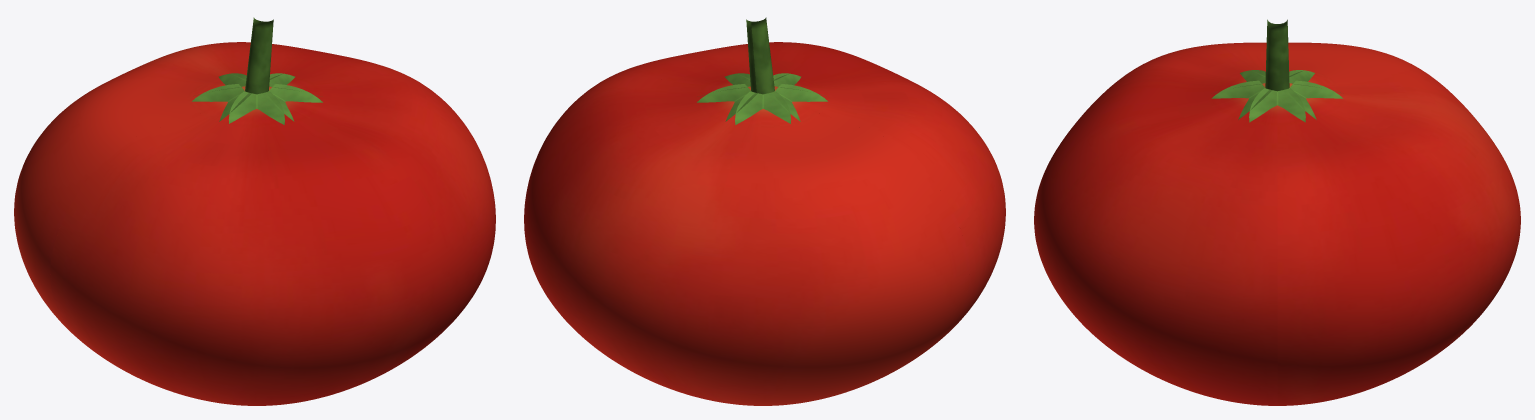
The model's file is tomate.glb.
The picture shows the model from 3 angles, left to right: view 1: azimuth 30°, elevation 25°; view 2: azimuth 150°, elevation 25°; view 3: azimuth 270°, elevation 25°; orthographic projection.
Visible parts, largest first — view 1: entier_peau, moitie_A_peau, moitie_B_peau, entier_extra6, entier_extra2, entier_extra1, entier_extra3; view 2: entier_peau, moitie_B_peau, moitie_A_peau, entier_extra6, entier_extra4, entier_extra5, entier_extra3; view 3: entier_peau, moitie_A_peau, moitie_B_peau, entier_extra6, entier_extra0, entier_extra1, entier_extra5.
Boxes of the visible parts, x1,y1,x2,y2 form: entier_peau: [14, 42, 495, 405]; moitie_A_peau: [50, 76, 495, 405]; moitie_B_peau: [14, 42, 422, 341]; entier_extra6: [245, 17, 273, 94]; entier_extra2: [228, 91, 284, 124]; entier_extra1: [262, 84, 322, 121]; entier_extra3: [192, 84, 251, 121]; entier_peau: [524, 42, 1005, 405]; moitie_B_peau: [524, 76, 969, 405]; moitie_A_peau: [597, 42, 1005, 341]; entier_extra6: [746, 17, 774, 94]; entier_extra4: [735, 91, 791, 124]; entier_extra5: [697, 84, 757, 121]; entier_extra3: [768, 84, 827, 121]; entier_peau: [1034, 42, 1520, 405]; moitie_A_peau: [1034, 43, 1277, 405]; moitie_B_peau: [1277, 43, 1520, 405]; entier_extra6: [1265, 19, 1289, 91]; entier_extra0: [1249, 88, 1305, 122]; entier_extra1: [1211, 80, 1271, 119]; entier_extra5: [1283, 80, 1343, 119].
Bounding box in the file's own units: 0.072 × 0.0605 × 0.0721.
Materials: 4 (4 with a texture image).
